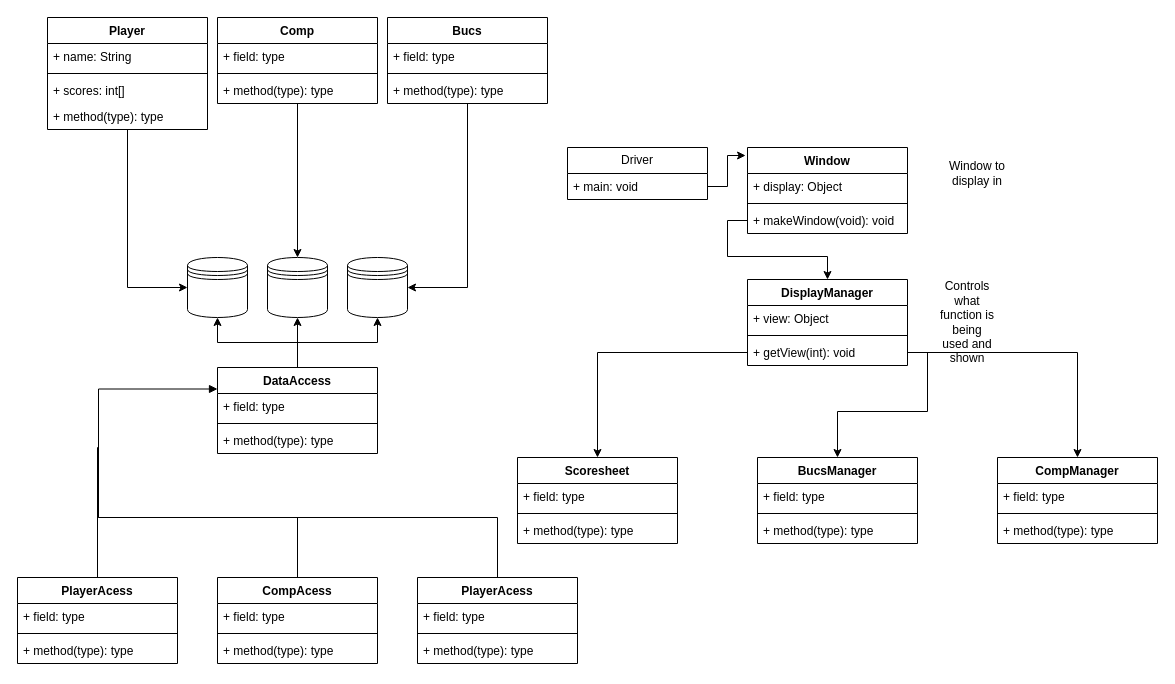
This 1175x684 diagram has some shape labels left out. The shapes that lost their labels are listed below. From the top down, each one's centre as x and y in pixels, then its label:
At pixel 217 287: "Player JSON info".
At pixel 297 287: "Comp JSON info".
At pixel 377 287: "BUCS JSON info".
